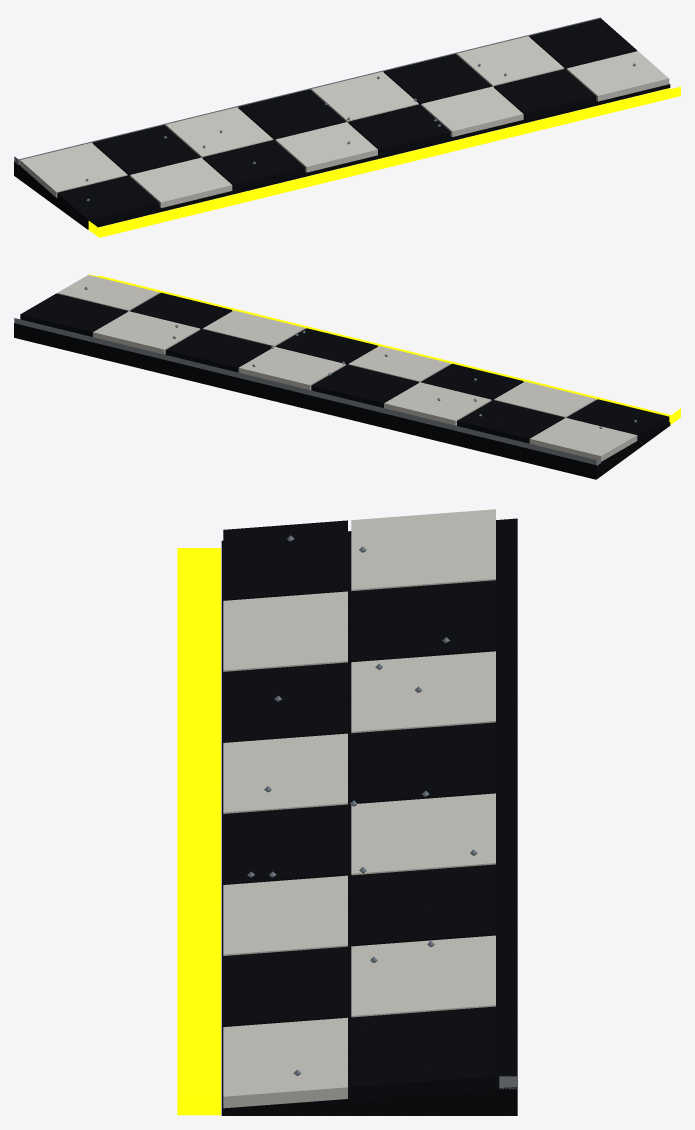
File: v5_apron.glb
3 views of the same model, one above another, from view 1: azimuth 30°, elevation 25°; view 2: azimuth 150°, elevation 25°; view 3: azimuth 270°, elevation 25° (orthographic). The views are drawn at different scales.
Visible parts, largest first — view 1: Pavers_A, Pavers_B, Nosing_Line, Apron_Body, Drain_Grate; view 2: Pavers_B, Pavers_A, Apron_Body, Drain_Grate, Nosing_Line; view 3: Pavers_B, Pavers_A, Nosing_Line, Apron_Body.
Part boxes in pixels (bbox=[...]): Pavers_A: bbox=[20, 36, 669, 207]; Pavers_B: bbox=[57, 18, 637, 225]; Nosing_Line: bbox=[88, 86, 680, 237]; Apron_Body: bbox=[14, 84, 670, 229]; Drain_Grate: bbox=[14, 17, 600, 165]; Pavers_B: bbox=[20, 292, 669, 443]; Pavers_A: bbox=[57, 275, 637, 461]; Apron_Body: bbox=[14, 323, 670, 479]; Drain_Grate: bbox=[14, 318, 600, 465]; Nosing_Line: bbox=[88, 274, 680, 424]; Pavers_B: bbox=[223, 520, 495, 1098]; Pavers_A: bbox=[223, 509, 495, 1108]; Nosing_Line: bbox=[177, 548, 220, 1115]; Apron_Body: bbox=[221, 518, 517, 1115].
Size of what is drawn, in the model's own units: 4 by 0.1414 by 1.01.
6 materials, 3 textured.
